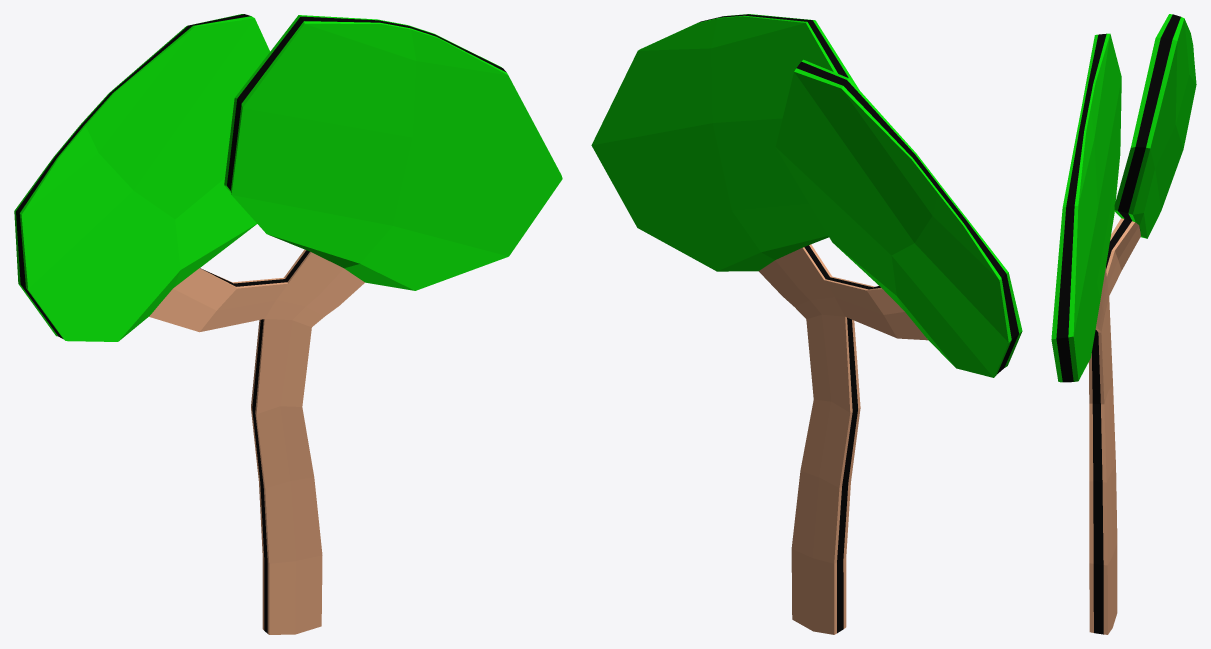
The model's file is CardboardTree04.fbx.
3 renders of one model, left to right at view 1: azimuth 30°, elevation 25°; view 2: azimuth 150°, elevation 25°; view 3: azimuth 270°, elevation 25°, orthographic. The views are drawn at different scales.
Parts seen in each view (by area): view 1: Cube.020; view 2: Cube.020; view 3: Cube.020.
Boxes of the visible parts, x1=… form: Cube.020: x1=14, y1=14, x2=562, y2=634; Cube.020: x1=591, y1=14, x2=1022, y2=634; Cube.020: x1=1051, y1=14, x2=1196, y2=634.
Size of the model in its own units: 877 by 1067 by 234.
